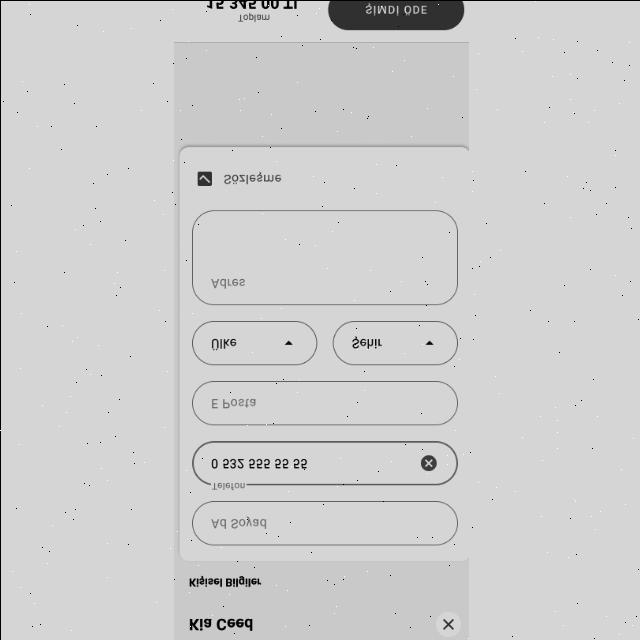QLabel: (185, 616, 253, 632), (185, 574, 261, 588), (358, 2, 428, 16), (205, 0, 299, 10), (222, 171, 280, 183), (235, 12, 268, 22)
VBtn: (328, 0, 467, 30)
VCard: (177, 145, 468, 561)
VCheckbox: (194, 169, 212, 187)
VCombobox: (190, 319, 316, 367), (331, 320, 457, 364)
VFooter: (172, 1, 468, 42)
VIcon: (434, 611, 461, 637)
VTextField: (189, 438, 456, 489), (190, 499, 458, 546), (189, 379, 456, 425)
VTextarea: (188, 208, 458, 308)
